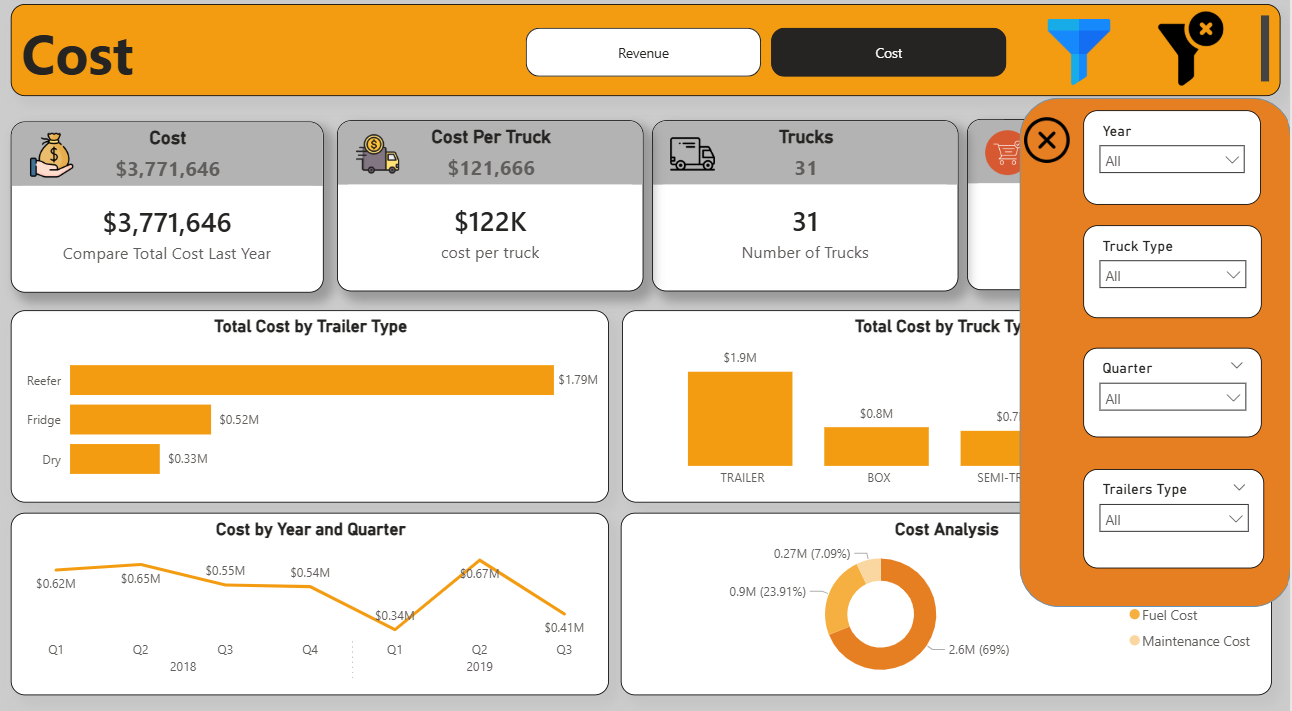

The page's visual inventory and layout, read from the dashboard file:
{"tool":"powerbi","page":{"name":"Cost","canvas":[1280,720],"ordinal":1},"visuals":[{"type":"group","id":"g1","title":"Group 5","box":[961.4,122.9,300,167.1],"z":0},{"type":"group","id":"g2","title":"Group 2","box":[961.4,122.9,301.1,167.7],"z":0,"group":"g1"},{"type":"cardVisual","title":"Cost Per Order","fields":{"Data":["Measure.cost per order"]},"box":[961.4,122.9,301.1,167.7],"z":0,"group":"g2"},{"type":"group","id":"g3","title":"Group 2","box":[343.6,123.9,301.1,167.7],"z":0,"group":"g8"},{"type":"cardVisual","title":"Cost Per Truck","fields":{"Data":["Measure.cost per truck"]},"box":[343.6,123.9,301.1,167.7],"z":0,"group":"g3"},{"type":"group","id":"g4","title":"Group 2","box":[653,124.4,301.1,167.7],"z":0,"group":"g6"},{"type":"cardVisual","title":"Trucks","fields":{"Data":["Measure.Number of trucks"]},"box":[653,124.4,301.1,167.7],"z":0,"group":"g4"},{"type":"group","id":"g5","title":"Group 2","box":[5,125.7,325.2,167.7],"z":0,"group":"g7"},{"type":"cardVisual","title":"Cost","fields":{"Data":["Measure.Compare Total Cost Last Year"]},"box":[23.2,125.7,307,167.7],"z":0,"group":"g5"},{"type":"group","id":"g6","title":"Group 5","box":[653,124.4,301.5,168.1],"z":1000},{"type":"image","box":[971.6,134.2,60.2,43.6],"z":1000,"group":"g1"},{"type":"image","box":[353.3,135.2,60.2,43.6],"z":1000,"group":"g8"},{"type":"image","box":[662.7,135.7,60.2,43.6],"z":1000,"group":"g6"},{"type":"image","box":[32.1,137,63,43.6],"z":1000,"group":"g7"},{"type":"cardVisual","fields":{"Data":["Measure.Cost Arrow"]},"box":[5,192.8,88.5,64.1],"z":1000,"group":"g5"},{"type":"textbox","box":[23.3,10,1246.7,90],"z":2000},{"type":"pageNavigator","box":[528.6,32.9,472.9,48.6],"z":3000},{"type":"image","box":[1013.3,25,116.7,65],"z":4000},{"type":"image","box":[1130,17.1,102.9,72.9],"z":5000},{"type":"clusteredBarChart","title":"Total Cost by Trailer Type ","fields":{"Category":["d_vehicle.Trailers Type"],"Y":["Measure.Total Cost"]},"box":[23.1,310.4,587.5,188.6],"z":6000},{"type":"lineChart","title":" Cost by Year and Quarter","fields":{"Category":["Date.Year","Date.Quarter"],"Y":["Measure.Total Cost"]},"box":[23.1,509.3,587.5,179.6],"z":7000},{"type":"clusteredColumnChart","title":"Total Cost by Truck Type","fields":{"Category":["d_vehicle.Truck Type"],"Y":["Measure.Total Cost"]},"box":[623.5,310.4,637.6,188.6],"z":8000},{"type":"donutChart","title":"Cost Analysis","fields":{"Y":["Sum(F_cost.Fixed Costs)","Sum(F_cost.Fuel)","Sum(F_cost.Maintenance)"]},"box":[622.2,509.3,638.8,179.6],"z":9000},{"type":"group","id":"g7","title":"Group 4","box":[5,125.7,325.2,167.7],"z":11000},{"type":"group","id":"g8","title":"Group 5","box":[343.6,123.9,301.8,169.3],"z":12000}]}

Visuals, with their boxes in screenshot pixels (x1, y1, x2, y2), scaled from the page's 1280x720 canvas onto the 1292x711 screenshot:
"Group 5" group: BBox(970, 121, 1273, 286)
"Group 2" group: BBox(970, 121, 1274, 287)
"Cost Per Order" cardVisual: BBox(970, 121, 1274, 287)
"Group 2" group: BBox(347, 122, 651, 288)
"Cost Per Truck" cardVisual: BBox(347, 122, 651, 288)
"Group 2" group: BBox(659, 123, 963, 288)
"Trucks" cardVisual: BBox(659, 123, 963, 288)
"Group 2" group: BBox(5, 124, 333, 290)
"Cost" cardVisual: BBox(23, 124, 333, 290)
"Group 5" group: BBox(659, 123, 963, 289)
image: BBox(981, 133, 1041, 176)
image: BBox(357, 134, 417, 177)
image: BBox(669, 134, 730, 177)
image: BBox(32, 135, 96, 178)
cardVisual - Measure.Cost Arrow: BBox(5, 190, 94, 254)
textbox: BBox(24, 10, 1282, 99)
pageNavigator: BBox(534, 32, 1011, 80)
image: BBox(1023, 25, 1141, 89)
image: BBox(1141, 17, 1244, 89)
"Total Cost by Trailer Type " clusteredBarChart: BBox(23, 307, 616, 493)
" Cost by Year and Quarter" lineChart: BBox(23, 503, 616, 680)
"Total Cost by Truck Type" clusteredColumnChart: BBox(629, 307, 1273, 493)
"Cost Analysis" donutChart: BBox(628, 503, 1273, 680)
"Group 4" group: BBox(5, 124, 333, 290)
"Group 5" group: BBox(347, 122, 651, 290)
